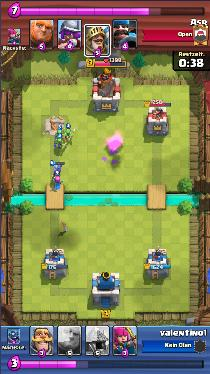ally_archer: (52, 178, 63, 189)
ally_musketeer: (52, 163, 63, 175)
ally_spear_goblin: (65, 128, 75, 142), (55, 139, 65, 149), (55, 128, 65, 138)
